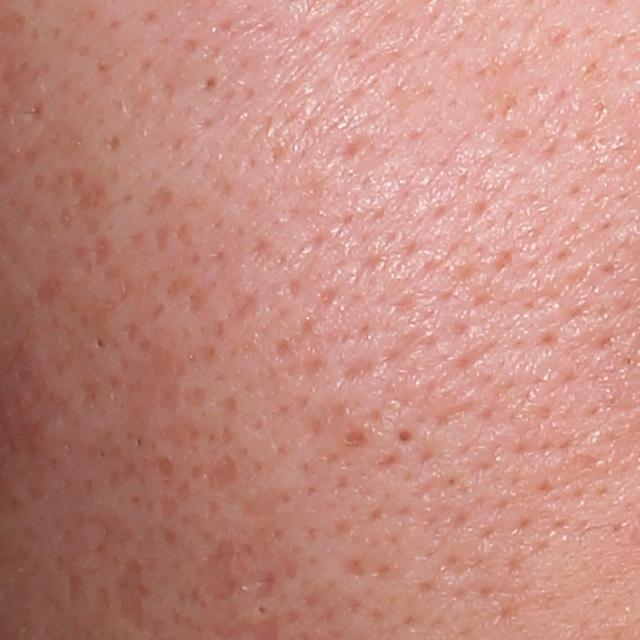atrophic_scar: (115, 560, 149, 632), (237, 565, 285, 603), (205, 450, 241, 497), (34, 273, 64, 311)
comedo: (394, 431, 417, 448), (199, 78, 219, 92)
